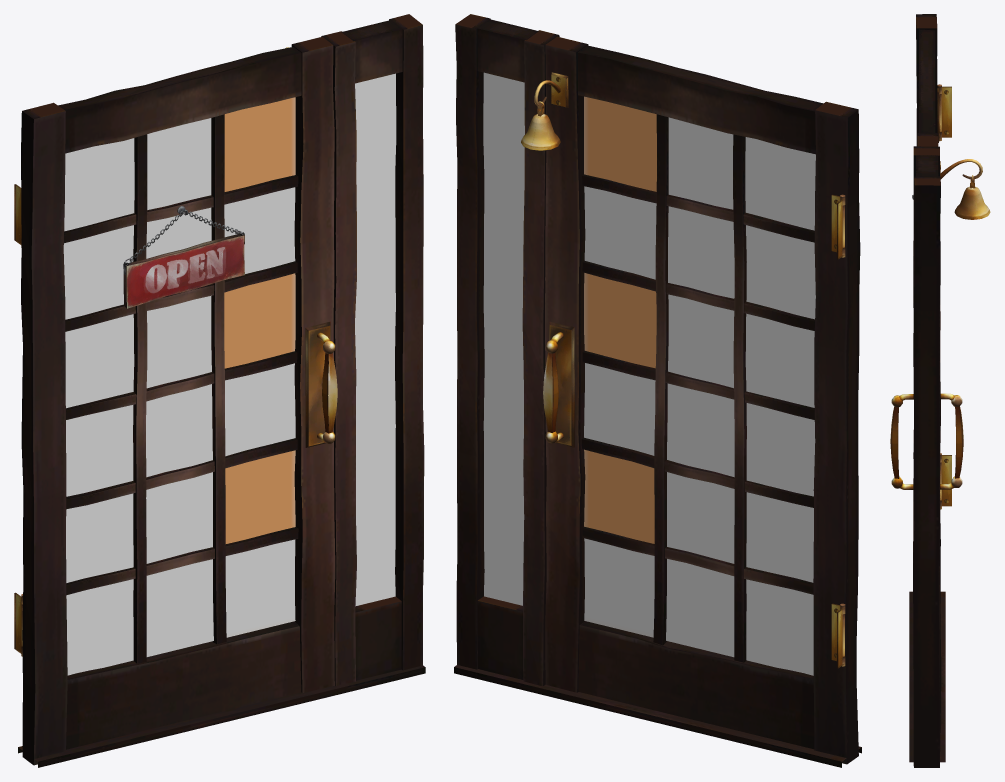
3 renders of one model, left to right at view 1: azimuth 30°, elevation 25°; view 2: azimuth 150°, elevation 25°; view 3: azimuth 270°, elevation 25°, orthographic. The views are drawn at different scales.
Parts seen in each view (by area): view 1: doorA_meshId0, doorA.004_meshId4, doorA_frame_meshId11, doorA.001_meshId1, doorA_frame.003_meshId14, doorA.005_meshId5, doorA_frame.001_meshId12, plate_meshId7, doorA.003_meshId3, plate.001_meshId8, doorA.002_meshId2, doorA_frame.002_meshId13; view 2: doorA_meshId0, doorA.004_meshId4, doorA_frame_meshId11, doorA.001_meshId1, doorA_frame.003_meshId14, doorA.005_meshId5, doorA_frame.001_meshId12, doorA.003_meshId3, doorA.002_meshId2, doorA_frame.002_meshId13, bell.001_meshId10; view 3: doorA_frame.001_meshId12, doorA.001_meshId1, doorA_frame.002_meshId13, doorA.003_meshId3, doorA.002_meshId2, bell.001_meshId10, doorA_frame_meshId11.
Boxes of the visible parts, box(x1,y1,x2,y2) form: doorA_meshId0: box(31, 45, 335, 765); doorA.004_meshId4: box(63, 118, 295, 675); doorA_frame_meshId11: box(334, 25, 424, 685); doorA.001_meshId1: box(21, 37, 332, 764); doorA_frame.003_meshId14: box(355, 73, 396, 606); doorA.005_meshId5: box(224, 97, 295, 543); doorA_frame.001_meshId12: box(18, 14, 425, 767); plate_meshId7: box(126, 235, 244, 308); doorA.003_meshId3: box(305, 321, 330, 447); plate.001_meshId8: box(123, 209, 244, 308); doorA.002_meshId2: box(285, 47, 337, 443); doorA_frame.002_meshId13: box(14, 184, 22, 656); doorA_meshId0: box(545, 45, 848, 764); doorA.004_meshId4: box(584, 117, 815, 675); doorA_frame_meshId11: box(455, 24, 544, 686); doorA.001_meshId1: box(546, 36, 860, 764); doorA_frame.003_meshId14: box(483, 72, 524, 605); doorA.005_meshId5: box(584, 96, 656, 543); doorA_frame.001_meshId12: box(454, 14, 861, 767); doorA.003_meshId3: box(537, 72, 840, 661); doorA.002_meshId2: box(534, 80, 563, 443); doorA_frame.002_meshId13: box(837, 194, 845, 668); bell.001_meshId10: box(521, 114, 560, 150); doorA_frame.001_meshId12: box(909, 132, 945, 767); doorA.001_meshId1: box(898, 14, 938, 477); doorA_frame.002_meshId13: box(937, 84, 951, 509); doorA.003_meshId3: box(890, 88, 974, 478); doorA.002_meshId2: box(890, 159, 982, 489); bell.001_meshId10: box(954, 186, 990, 219); doorA_frame_meshId11: box(913, 180, 941, 765).
Bounding box in the file's own units: 127 × 201 × 31.1.
Materials: 8 (8 with a texture image).
